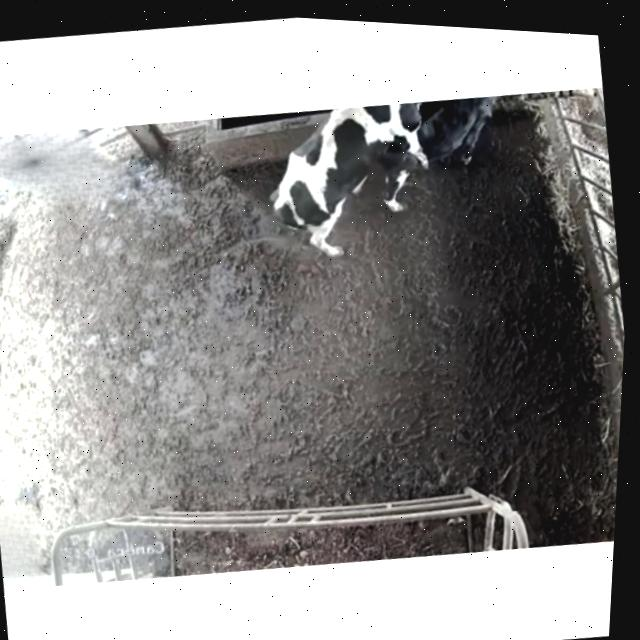ride: (249, 84, 500, 288)
